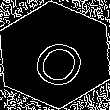O_NE: (21, 22, 89, 88)
